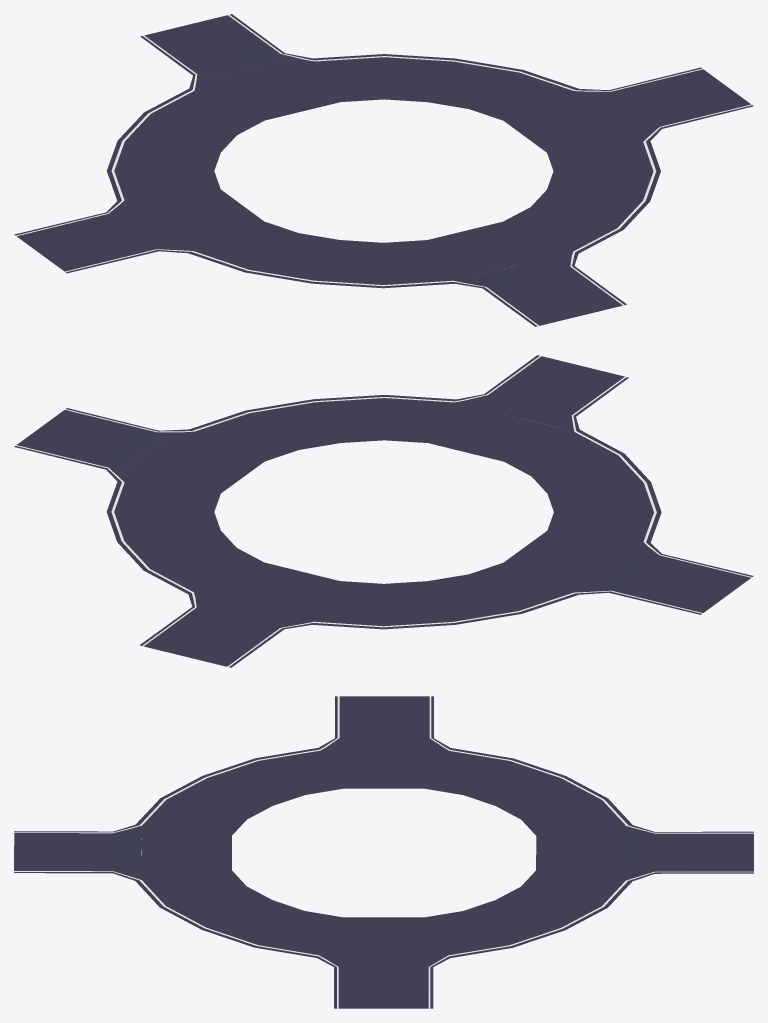
3 renders of one model, top to bottom at view 1: azimuth 30°, elevation 25°; view 2: azimuth 150°, elevation 25°; view 3: azimuth 270°, elevation 25°, orthographic. The views are drawn at different scales.
Visible parts, largest first — view 1: Circle_1.005; view 2: Circle_1.005; view 3: Circle_1.005.
Part boxes in pixels (left/top/right/bottom): Circle_1.005: left=14, top=14, right=753, bottom=326; Circle_1.005: left=14, top=355, right=753, bottom=667; Circle_1.005: left=14, top=696, right=753, bottom=1008.
Size of the model in its own units: 148 by 0.1358 by 148.
Materials: 1 (1 with a texture image).
